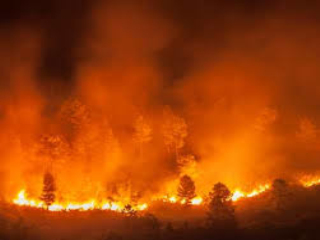fire: (18, 186, 154, 215), (149, 179, 211, 212), (226, 176, 283, 209), (292, 170, 320, 190)
